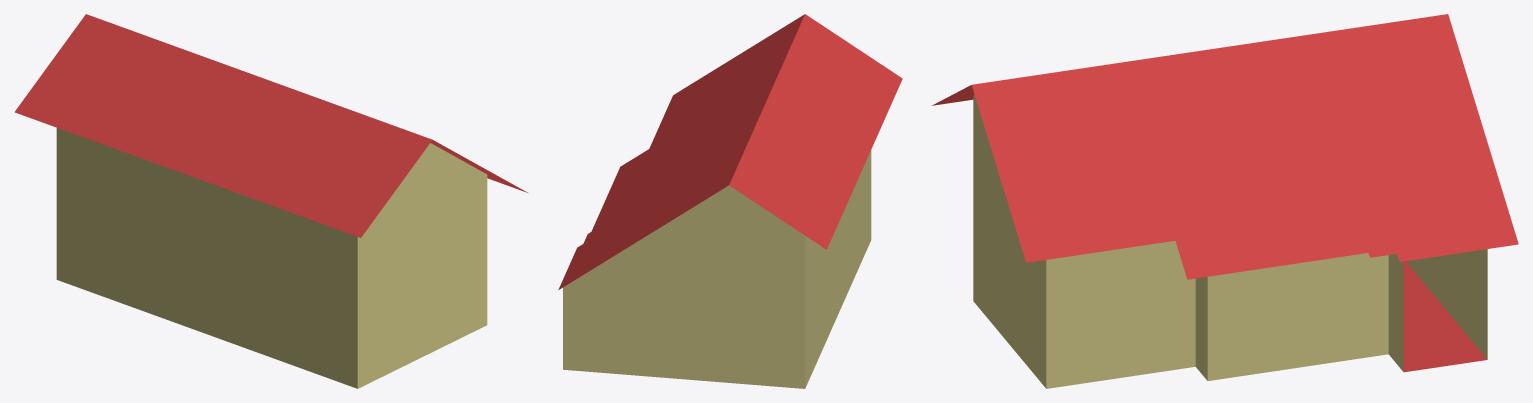
3 views of the same model, side by side, from view 1: azimuth 30°, elevation 25°; view 2: azimuth 150°, elevation 25°; view 3: azimuth 270°, elevation 25° (orthographic). The views are drawn at different scales.
Size of the model in its own units: 19.84 by 26.63 by 12.82.
